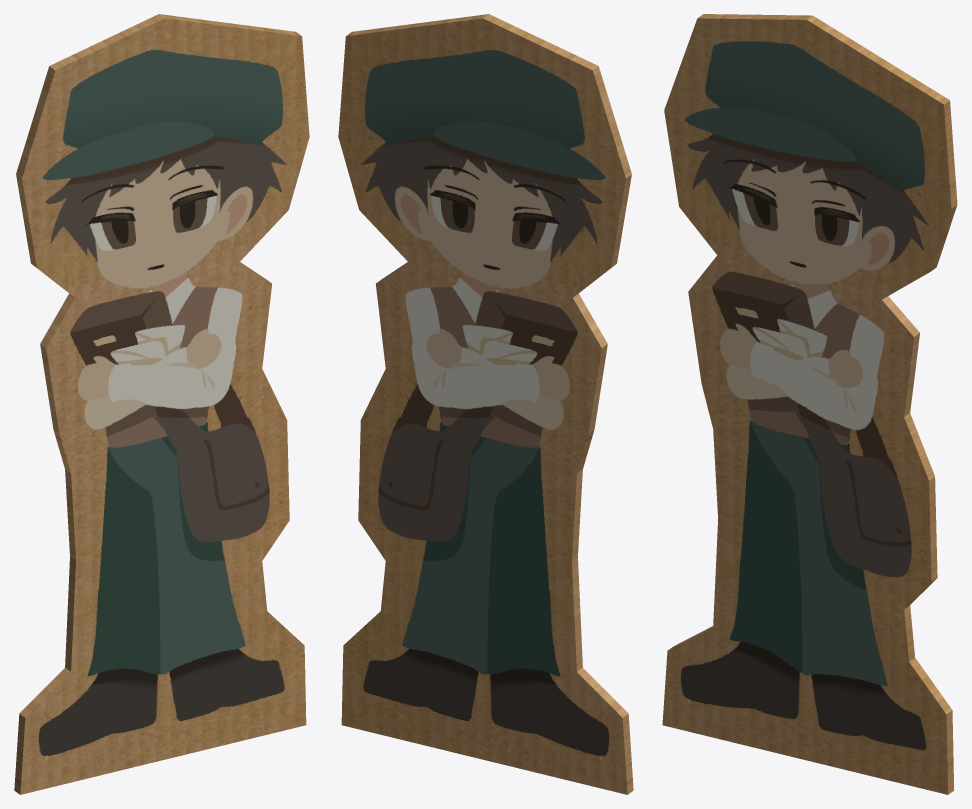
The model's file is NPC_Base_2_Courier.glb.
3 views of the same model, side by side, from view 1: azimuth 30°, elevation 25°; view 2: azimuth 150°, elevation 25°; view 3: azimuth 330°, elevation 25° (orthographic).
Visible parts, largest first — view 1: NPC_Base_2_Courier; view 2: NPC_Base_2_Courier; view 3: NPC_Base_2_Courier.
Boxes of the visible parts, x1,y1,x2,y2 form: NPC_Base_2_Courier: [14, 14, 309, 794]; NPC_Base_2_Courier: [338, 14, 633, 794]; NPC_Base_2_Courier: [662, 14, 957, 794].
Bounding box in the file's own units: 0.8327 × 2.04 × 0.03.
1 material, 1 textured.
